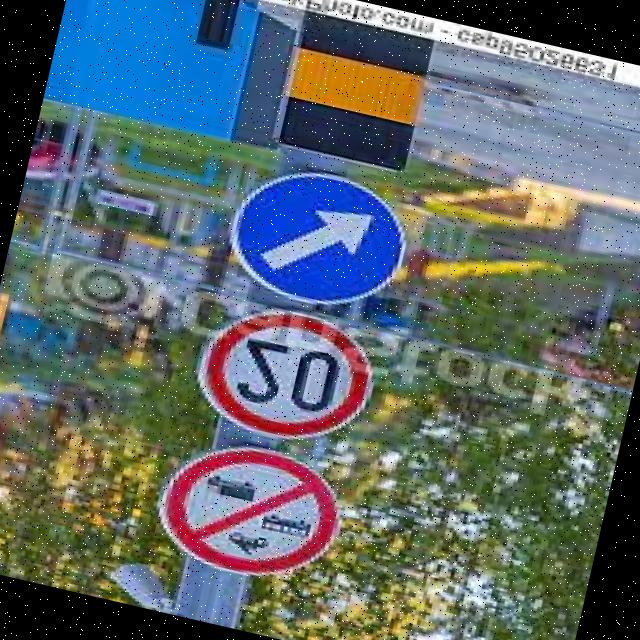compulsory_keep_right: (214, 150, 434, 328)
